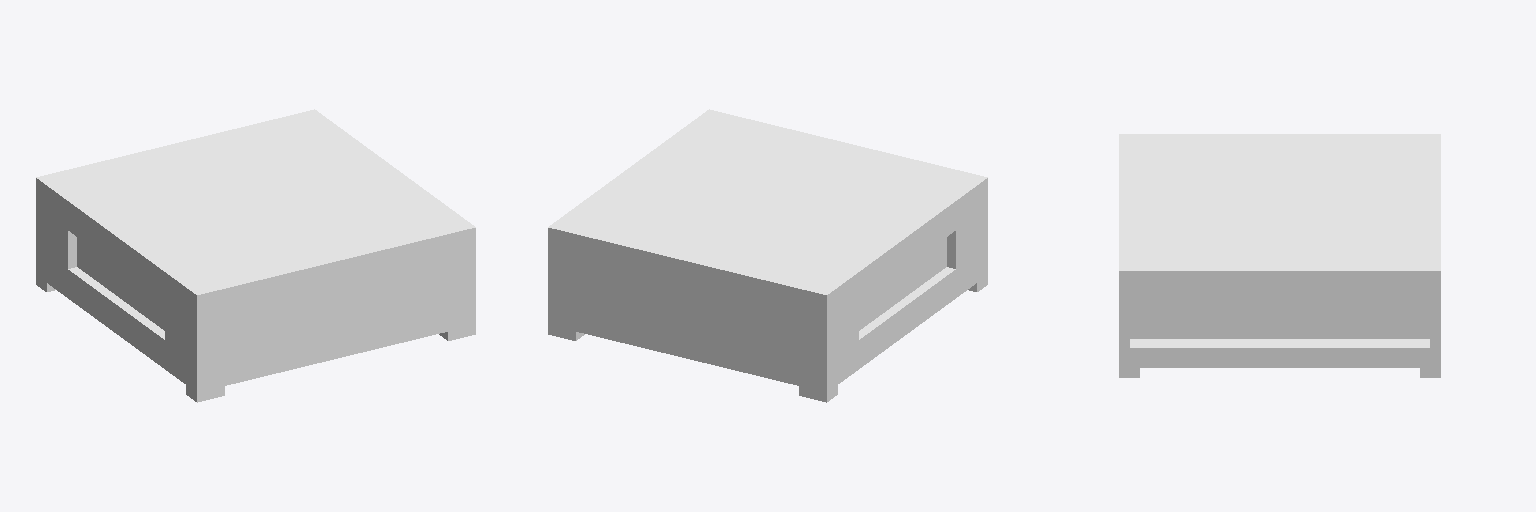
File: computerBase.obj
The picture shows the model from 3 angles: view 1: azimuth 30°, elevation 25°; view 2: azimuth 150°, elevation 25°; view 3: azimuth 270°, elevation 25°; orthographic projection.
Visible parts, largest first — view 1: object 1; view 2: object 1; view 3: object 1.
Part boxes in pixels (bbox=[...]): object 1: bbox=[36, 109, 475, 402]; object 1: bbox=[548, 109, 987, 402]; object 1: bbox=[1119, 134, 1440, 377].
Size of the model in its own units: 3 by 1.1 by 3.